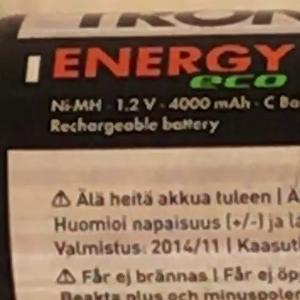keyword: (43, 91, 109, 120)
